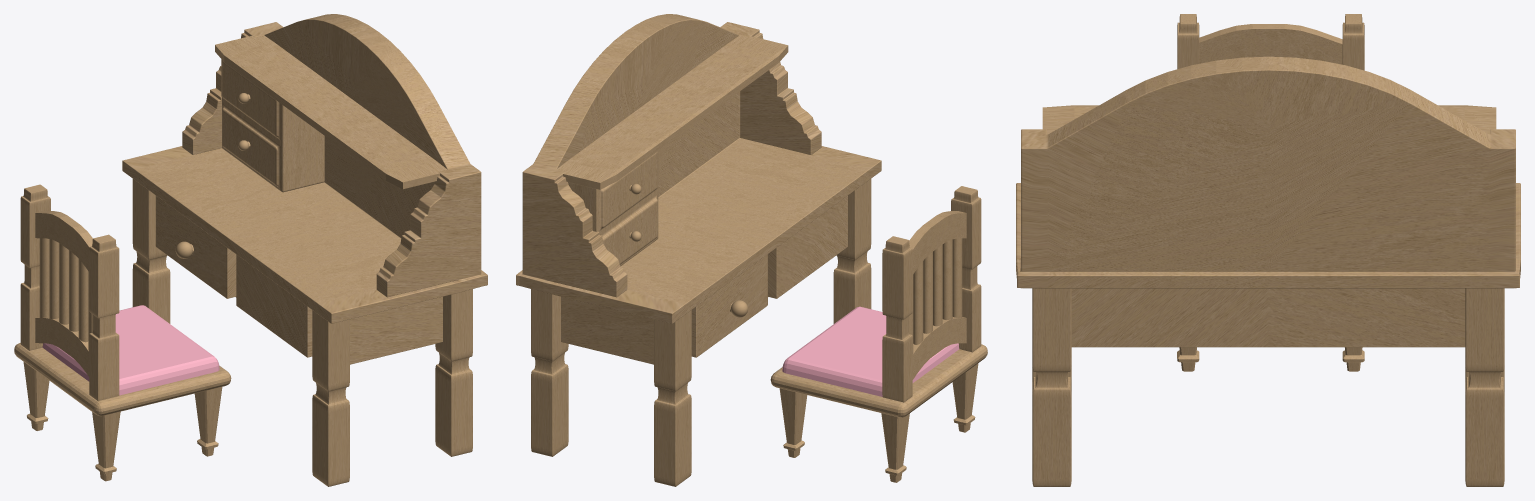
The model's file is Desk_Three.fbx.
The picture shows the model from 3 angles, left to right: view 1: azimuth 30°, elevation 25°; view 2: azimuth 150°, elevation 25°; view 3: azimuth 270°, elevation 25°; orthographic projection. The views are drawn at different scales.
Parts seen in each view (by area): view 1: Cube.022, Cube.017, Cube.018, Cube.019, Cube.031, Cube.029, Cube.028, Cylinder.022, Cube.030, Cube.033, Cube.032; view 2: Cube.022, Cube.017, Cube.018, Cube.031, Cube.029, Cube.019, Cube.028, Cylinder.022, Cube.030, Cube.033, Cube.032; view 3: Cube.022, Cube.017, Cube.033, Cube.031, Cube.018, Cube.030.
Boxes of the visible parts, left/top/right/bottom form: Cube.022: left=122, top=14, right=487, bottom=364; Cube.017: left=132, top=179, right=472, bottom=486; Cube.018: left=215, top=35, right=447, bottom=189; Cube.019: left=221, top=59, right=324, bottom=192; Cube.031: left=20, top=184, right=119, bottom=401; Cube.029: left=42, top=305, right=219, bottom=395; Cube.028: left=14, top=343, right=231, bottom=416; Cylinder.022: left=39, top=238, right=92, bottom=351; Cube.030: left=23, top=362, right=222, bottom=481; Cube.033: left=35, top=211, right=92, bottom=271; Cube.032: left=35, top=317, right=89, bottom=376; Cube.022: left=516, top=14, right=881, bottom=364; Cube.017: left=531, top=179, right=871, bottom=486; Cube.018: left=556, top=35, right=788, bottom=189; Cube.031: left=882, top=186, right=981, bottom=402; Cube.029: left=782, top=306, right=959, bottom=396; Cube.019: left=568, top=151, right=658, bottom=266; Cube.028: left=770, top=344, right=987, bottom=417; Cylinder.022: left=909, top=238, right=962, bottom=354; Cube.030: left=779, top=363, right=978, bottom=482; Cube.033: left=909, top=211, right=966, bottom=274; Cube.032: left=912, top=317, right=966, bottom=379; Cube.022: left=1016, top=56, right=1520, bottom=347; Cube.017: left=1032, top=288, right=1504, bottom=486; Cube.033: left=1199, top=24, right=1342, bottom=64; Cube.031: left=1177, top=14, right=1364, bottom=70; Cube.018: left=1042, top=105, right=1496, bottom=134; Cube.030: left=1177, top=347, right=1364, bottom=371.
Size of the model in its own units: 3.24 by 3.57 by 3.28.
Materials: 2 (1 with a texture image).
